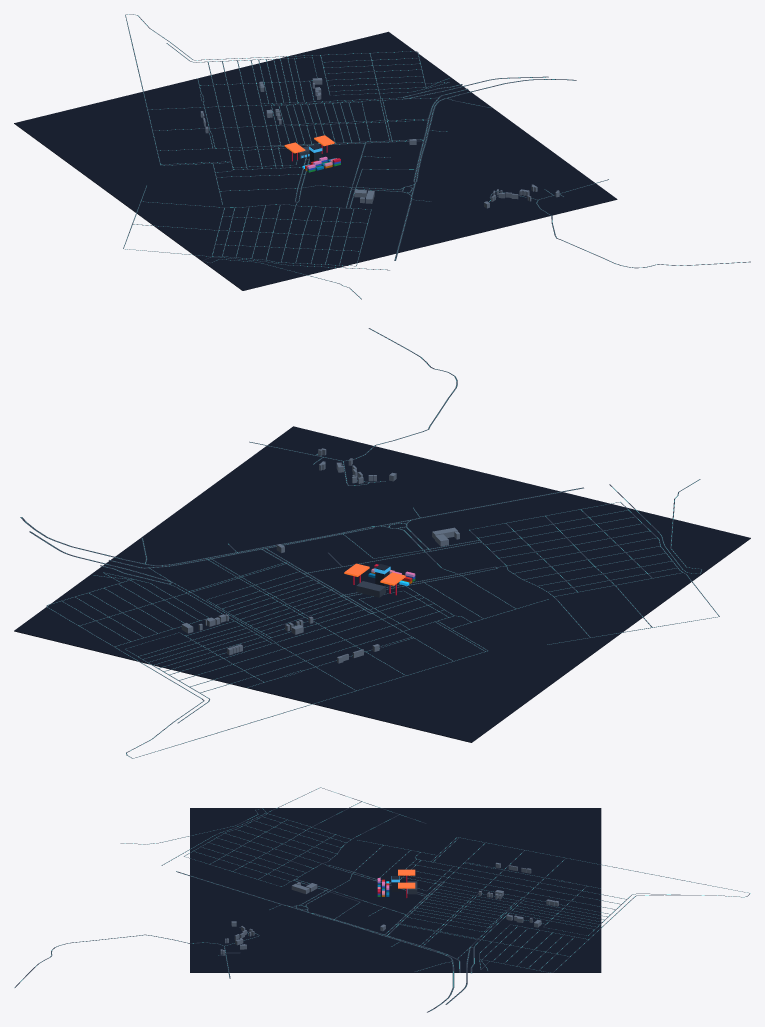
Rendered from facility_jnpt.glb.
3 renders of one model, top to bottom at view 1: azimuth 30°, elevation 25°; view 2: azimuth 150°, elevation 25°; view 3: azimuth 270°, elevation 25°, orthographic. The views are drawn at different scales.
Parts seen in each view (by area): view 1: GroundSlab, Road_785773532; view 2: GroundSlab, Road_785773532; view 3: GroundSlab, Road_785773532.
Part boxes in pixels (<box>): GroundSlab: <box>14,31,617,290</box>; Road_785773532: <box>125,14,426,165</box>; GroundSlab: <box>14,426,750,742</box>; Road_785773532: <box>46,579,487,758</box>; GroundSlab: <box>190,808,601,972</box>; Road_785773532: <box>457,837,749,972</box>.
Bounding box in the file's own units: 9.38 × 0.2559 × 12.96.
